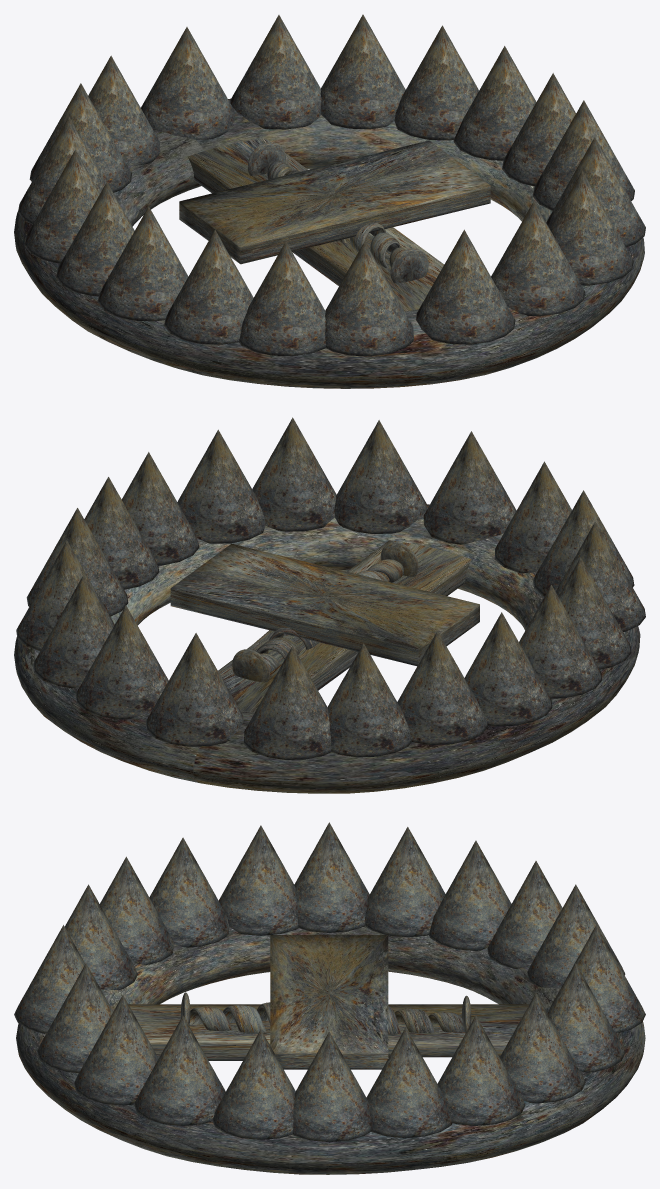
Rendered from Trampa.fbx.
The picture shows the model from 3 angles, top to bottom: view 1: azimuth 30°, elevation 25°; view 2: azimuth 150°, elevation 25°; view 3: azimuth 270°, elevation 25°; orthographic projection. The views are drawn at different scales.
Parts seen in each view (by area): view 1: Trampa2:Group63634; view 2: Trampa2:Group63634; view 3: Trampa2:Group63634.
Boxes of the visible parts, box(x1,y1,x2,y2) form: Trampa2:Group63634: box(14, 14, 645, 388); Trampa2:Group63634: box(14, 417, 645, 793); Trampa2:Group63634: box(14, 822, 645, 1174).
Size of the model in its own units: 2.4 by 0.6157 by 2.55.
Materials: 1 (1 with a texture image).
